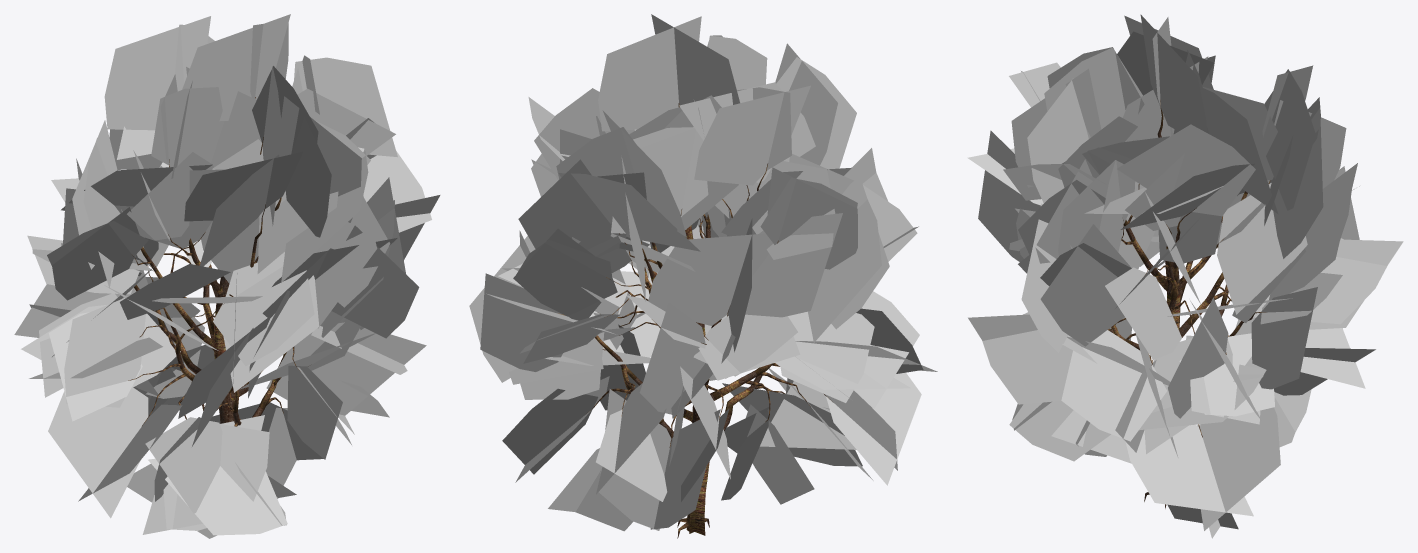
File: Tree_Trop_4.fbx
3 renders of one model, left to right at view 1: azimuth 30°, elevation 25°; view 2: azimuth 150°, elevation 25°; view 3: azimuth 270°, elevation 25°, orthographic. The views are drawn at different scales.
Parts seen in each view (by area): view 1: LOD0; view 2: LOD0; view 3: LOD0.
Boxes of the visible parts, x1=… form: LOD0: x1=14, y1=14, x2=440, y2=538; LOD0: x1=469, y1=14, x2=937, y2=538; LOD0: x1=967, y1=14, x2=1403, y2=538.
Size of what is drawn, in the model's own units: 13.5 by 16.78 by 13.46.
